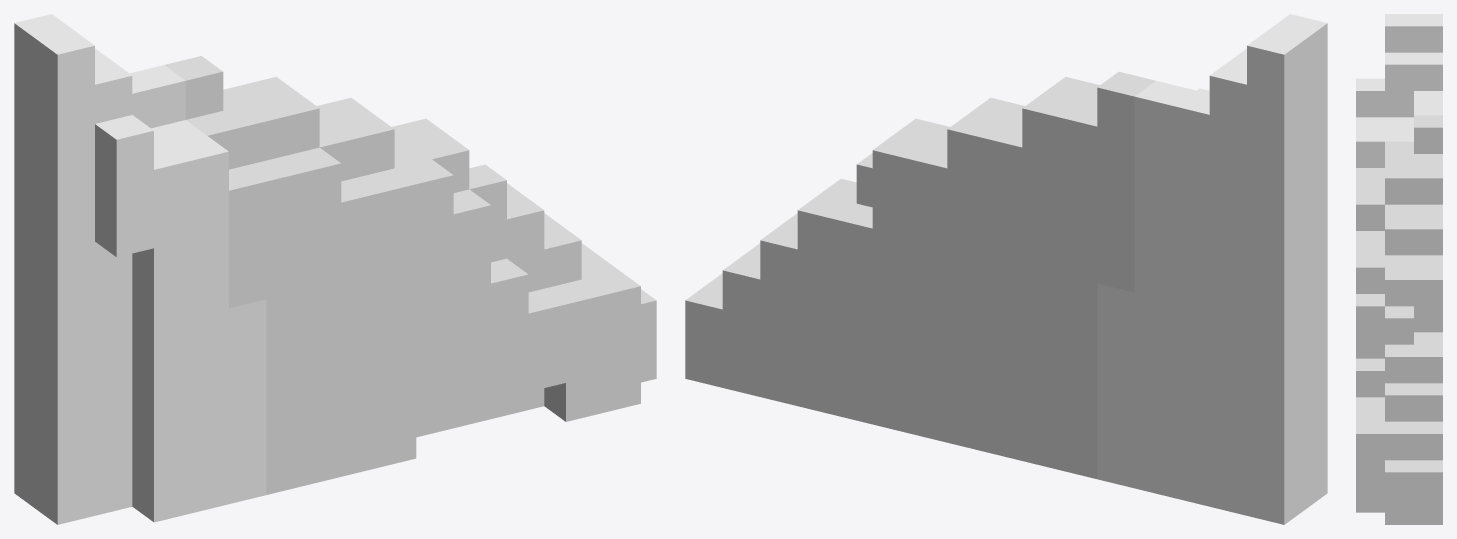
The model's file is fox-3.obj.
The picture shows the model from 3 angles, left to right: view 1: azimuth 30°, elevation 25°; view 2: azimuth 150°, elevation 25°; view 3: azimuth 270°, elevation 25°; orthographic projection. The views are drawn at different scales.
Size of the model in its own units: 1.6 by 1.2 by 0.3.
1 material, 1 textured.
